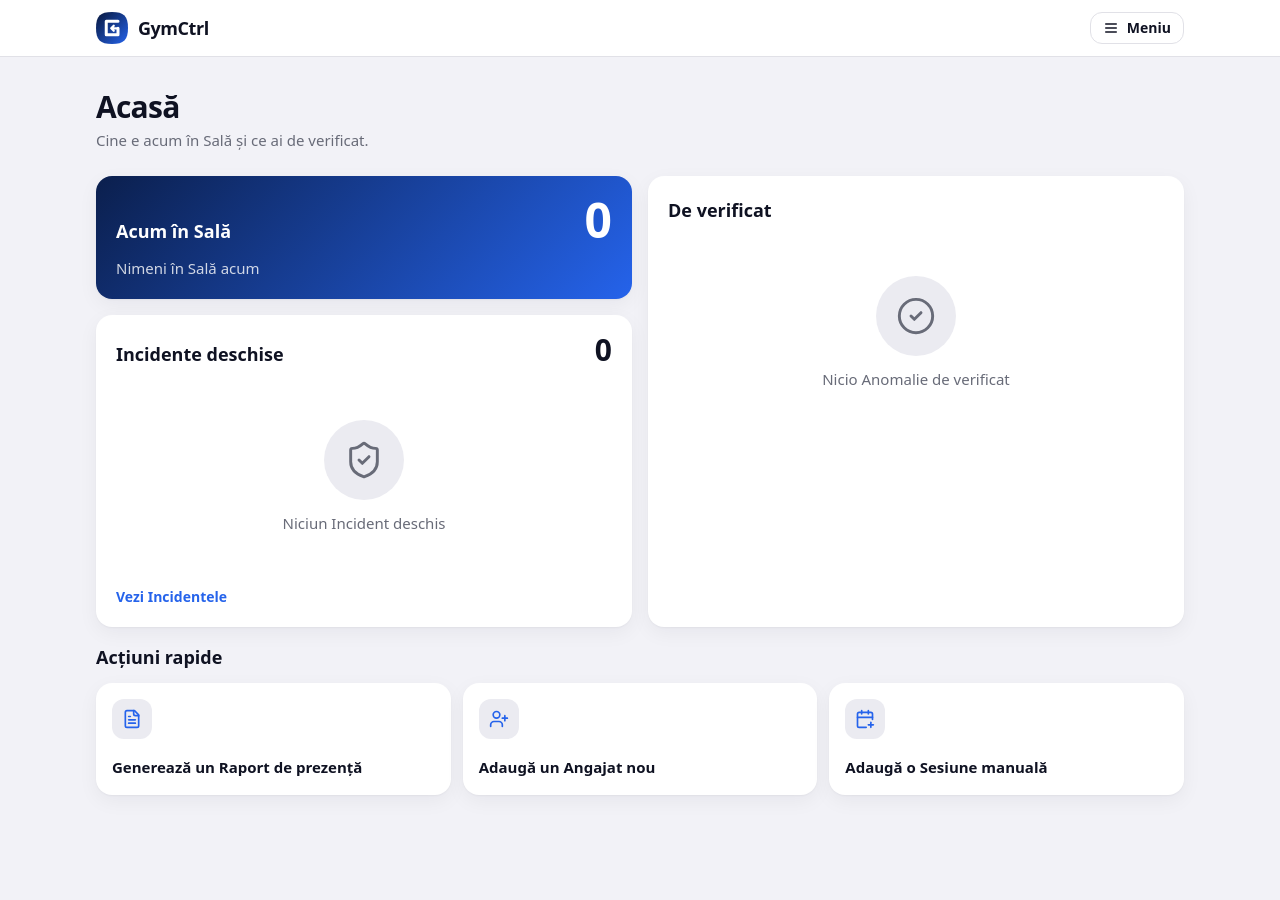
Test: pagina de gestiune (Acasă) › „Adaugă un Angajat nou” deschide direct foaia de adăugare
Click the link "Adaugă un Angajat nou" at {"x": 499, "y": 718}, box top-left (463, 682), bottom-right (817, 794)
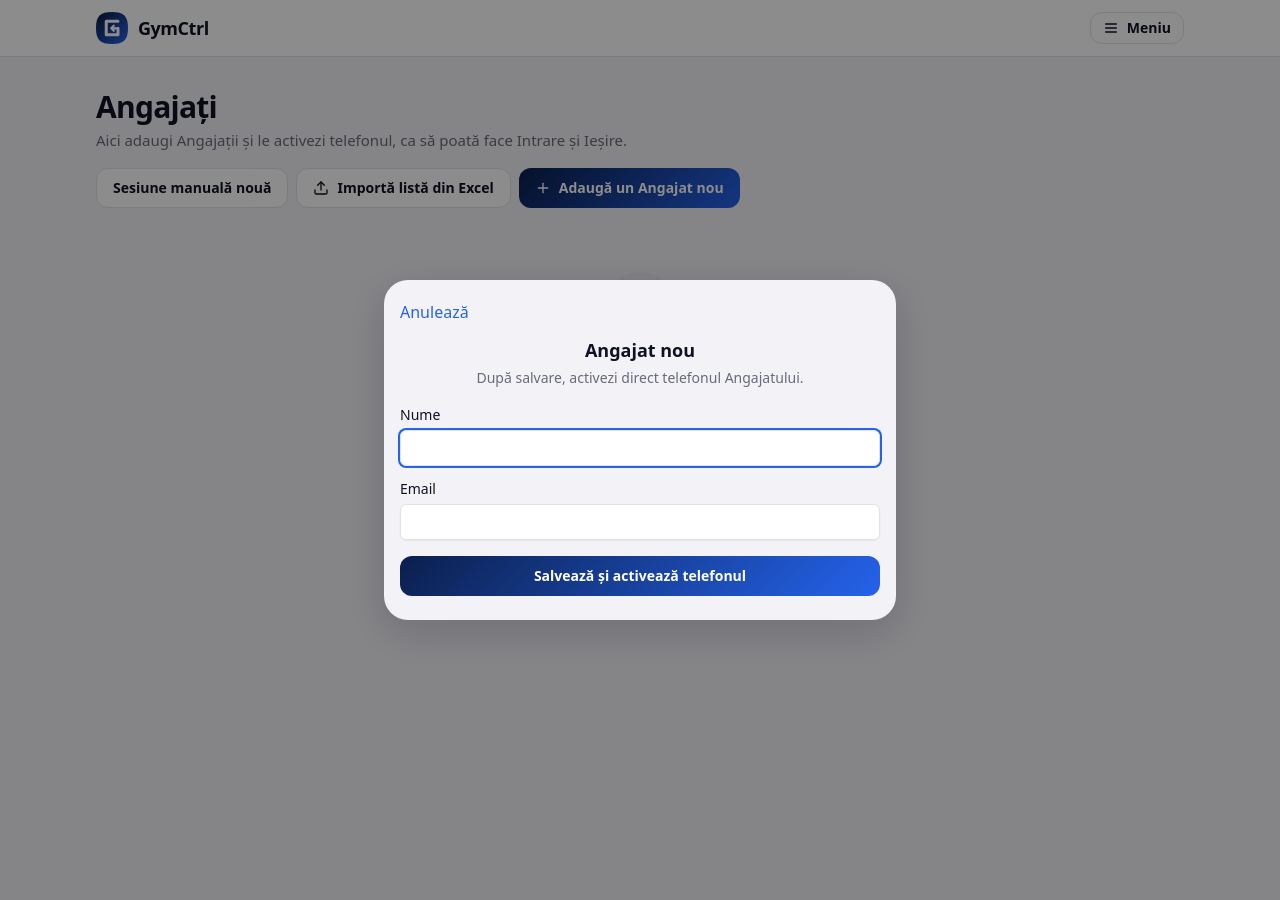
Expected: the dialog "Angajat nou" is shown, top-left (384, 280), bottom-right (896, 620)
